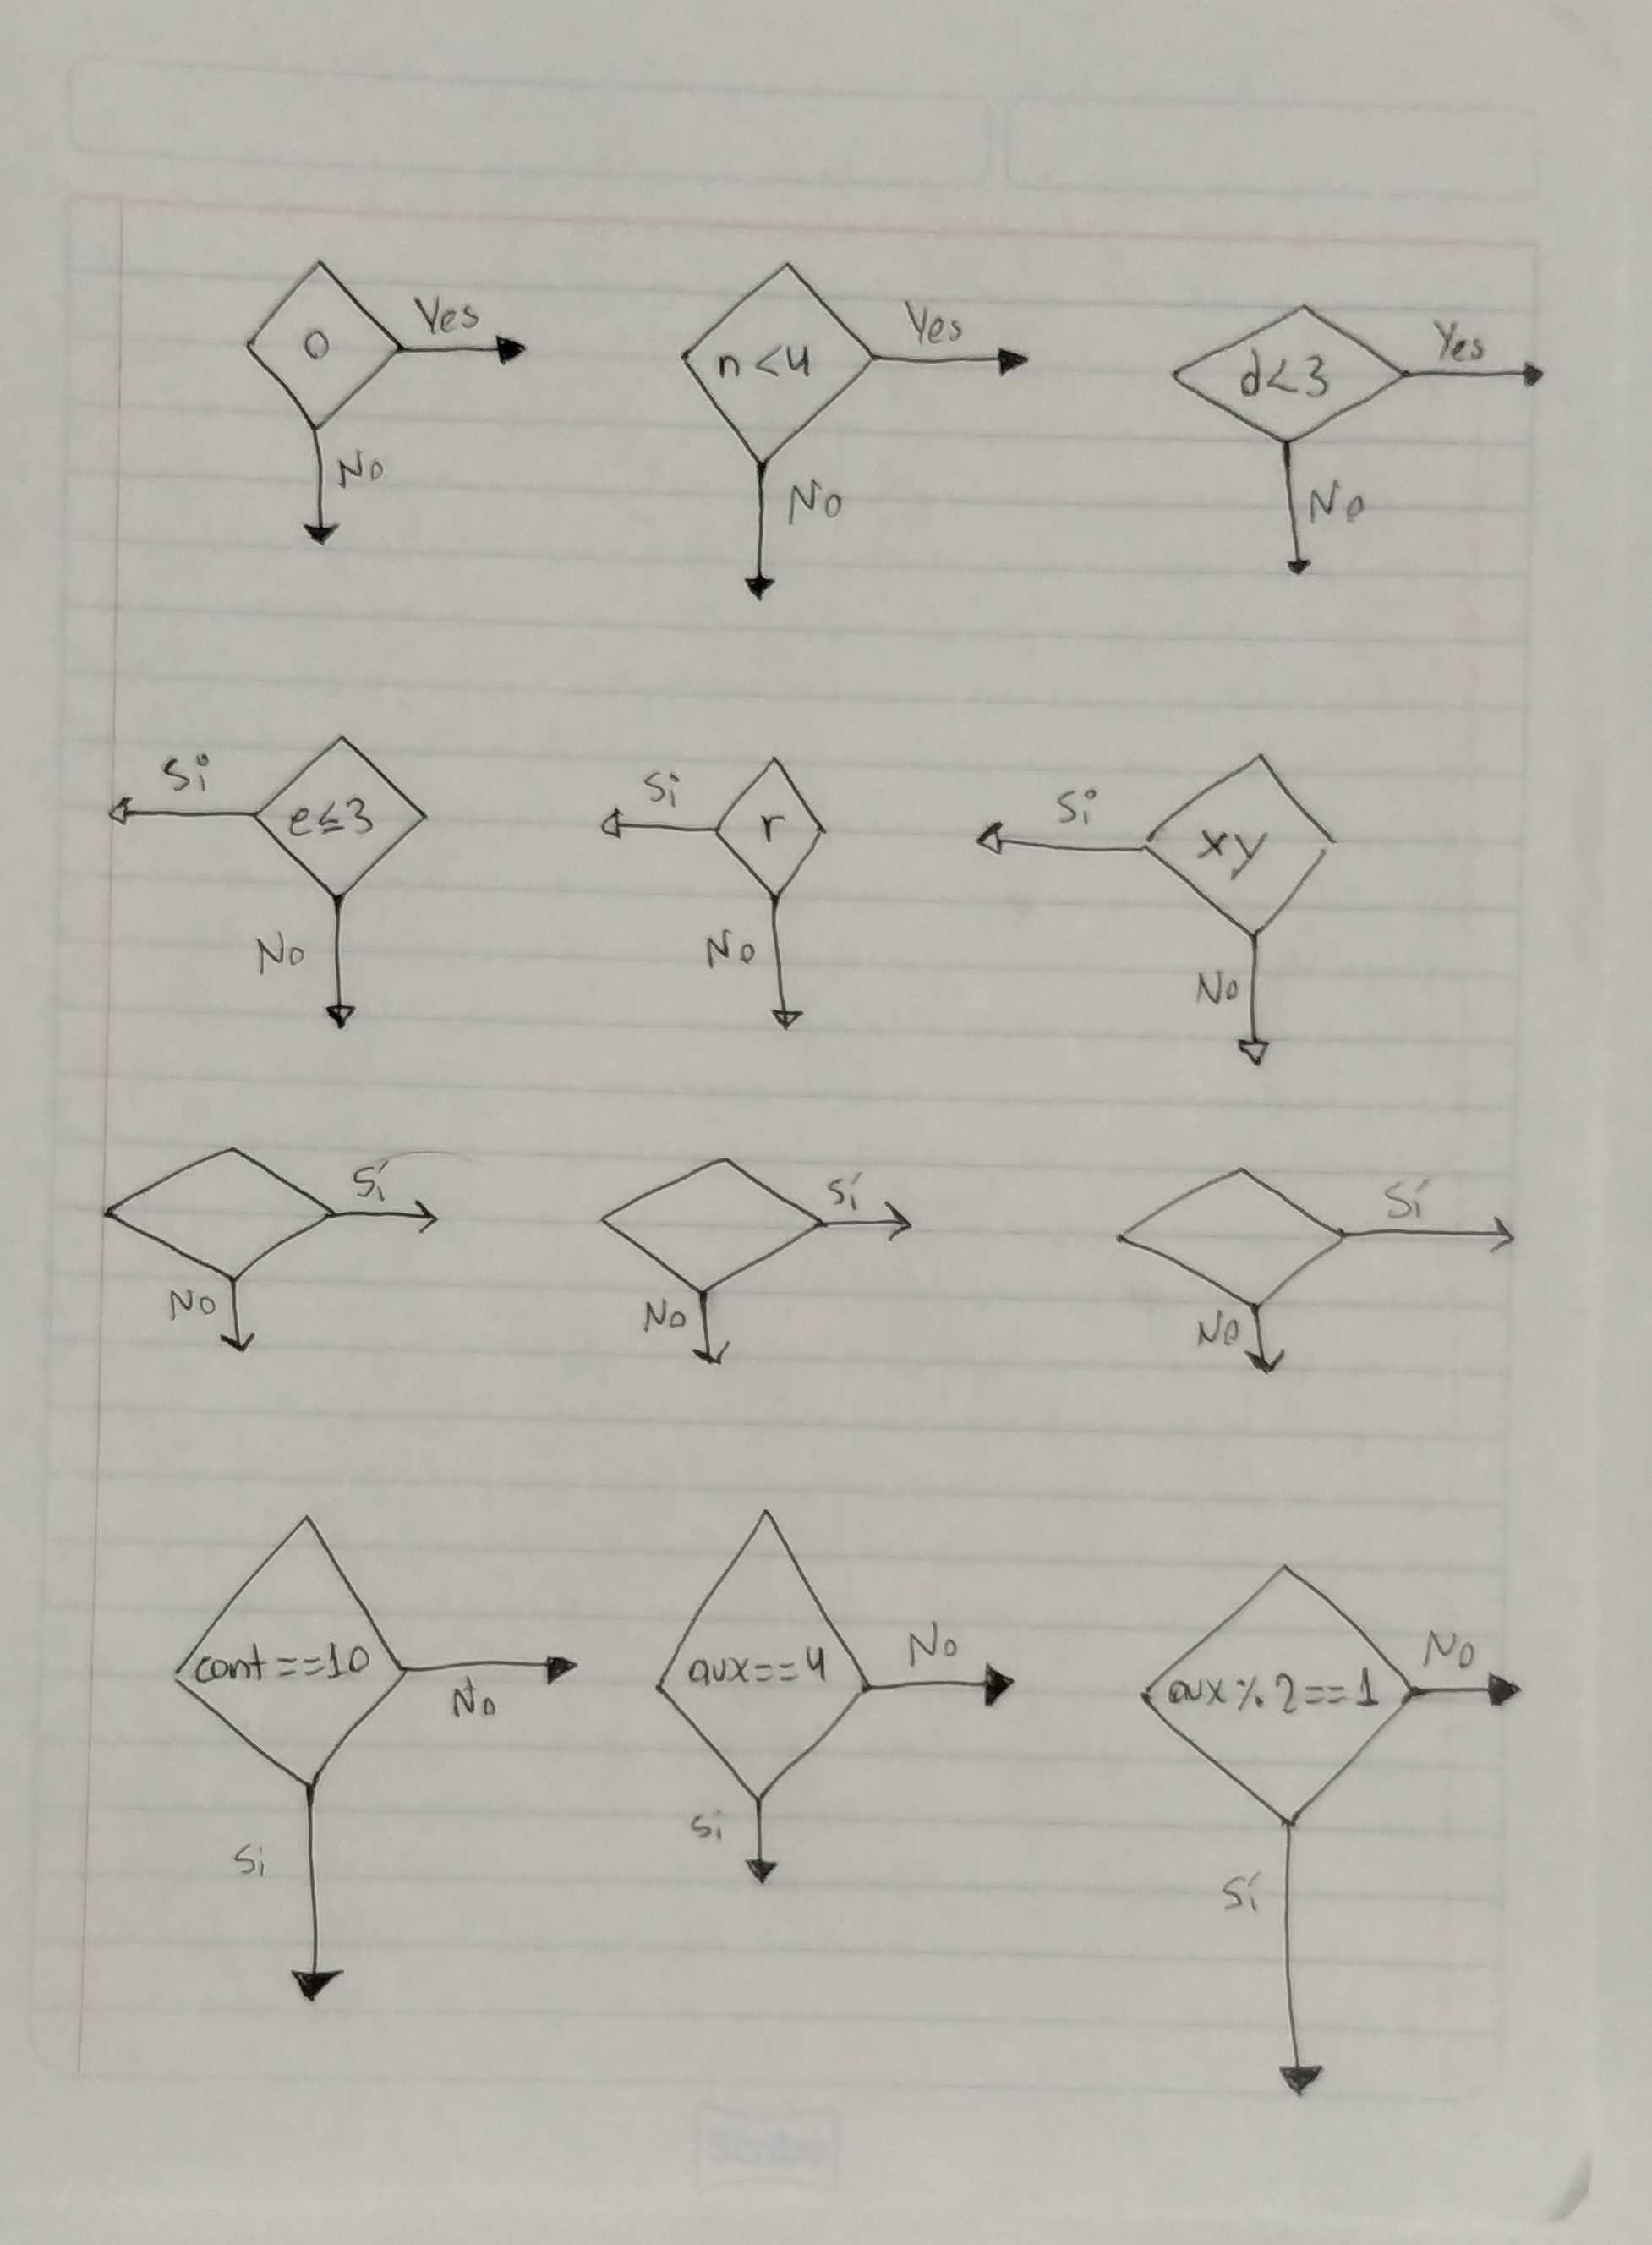arrow_line_down: (1262, 1820, 1330, 2104), (284, 1780, 345, 2008), (755, 896, 816, 1035), (1263, 441, 1321, 582), (1229, 931, 1286, 1072), (737, 460, 793, 605), (295, 424, 350, 554), (310, 896, 361, 1035), (737, 1797, 788, 1896), (683, 1288, 741, 1373), (213, 1274, 265, 1365), (1232, 1304, 1288, 1379)
arrow_line_left: (969, 811, 1150, 870), (96, 784, 260, 837), (592, 800, 721, 849)
arrow_line_right: (401, 1635, 582, 1692), (1342, 1210, 1520, 1262), (864, 1654, 1021, 1712), (870, 331, 1033, 385), (394, 322, 545, 375), (1399, 349, 1551, 397), (326, 1189, 448, 1241), (1412, 1663, 1527, 1717), (819, 1196, 920, 1248)
decision: (1124, 1555, 1427, 1827), (643, 1497, 875, 1809), (162, 1504, 413, 1790), (676, 254, 880, 471), (1162, 289, 1410, 455), (1141, 741, 1340, 939), (94, 1136, 340, 1290), (587, 1149, 833, 1300), (1108, 1156, 1347, 1309), (247, 723, 432, 910), (239, 254, 403, 431), (711, 748, 831, 908)
